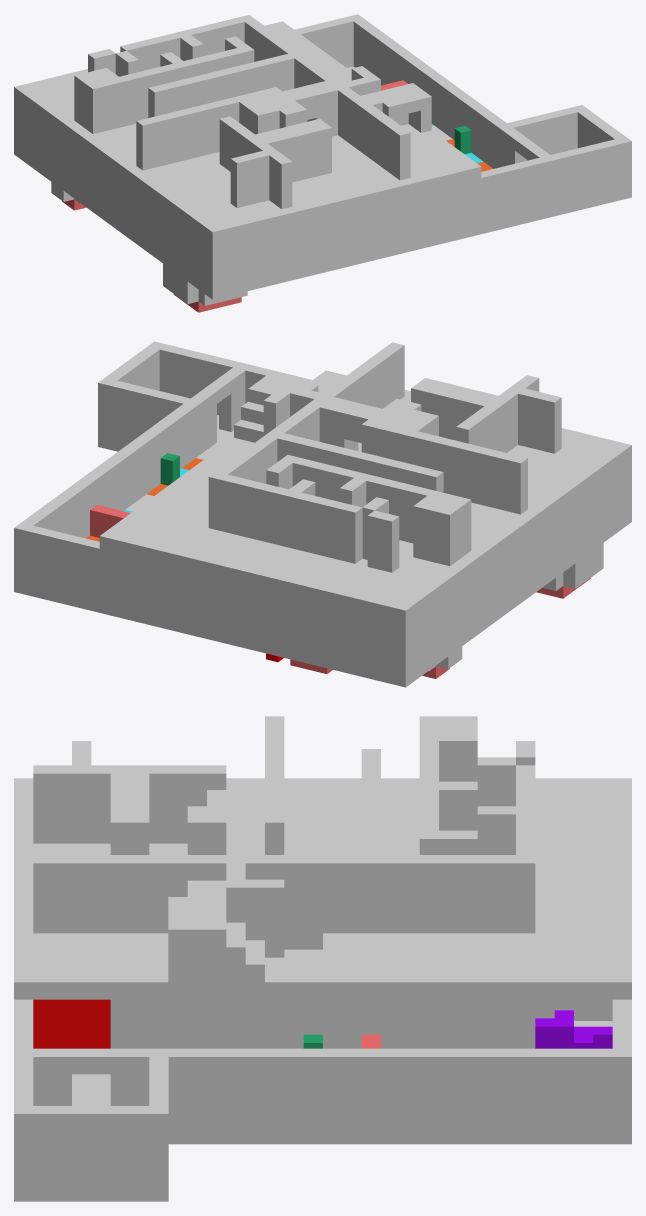
Rendered from stage2_1.FBX.
The picture shows the model from 3 angles, top to bottom: view 1: azimuth 30°, elevation 25°; view 2: azimuth 150°, elevation 25°; view 3: azimuth 270°, elevation 25°; orthographic projection. The views are drawn at different scales.
Visible parts, largest first — view 1: stage2_2, stage2_1, press2; view 2: stage2_2, stage2_1, damageWall4, press2; view 3: stage2_2, stage2_1, RedWall1, Rotation1.
Boxes of the visible parts, <box> form: stage2_2: <box>14,15,481,243</box>; stage2_1: <box>14,14,631,305</box>; press2: <box>454,126,471,154</box>; stage2_2: <box>99,342,631,623</box>; stage2_1: <box>14,341,631,687</box>; damageWall4: <box>90,505,130,537</box>; press2: <box>160,453,179,485</box>; stage2_2: <box>14,716,631,999</box>; stage2_1: <box>14,999,631,1201</box>; RedWall1: <box>33,999,110,1048</box>; Rotation1: <box>535,1010,612,1048</box>.
Size of the model in its own units: 1689 by 563 by 1386.
